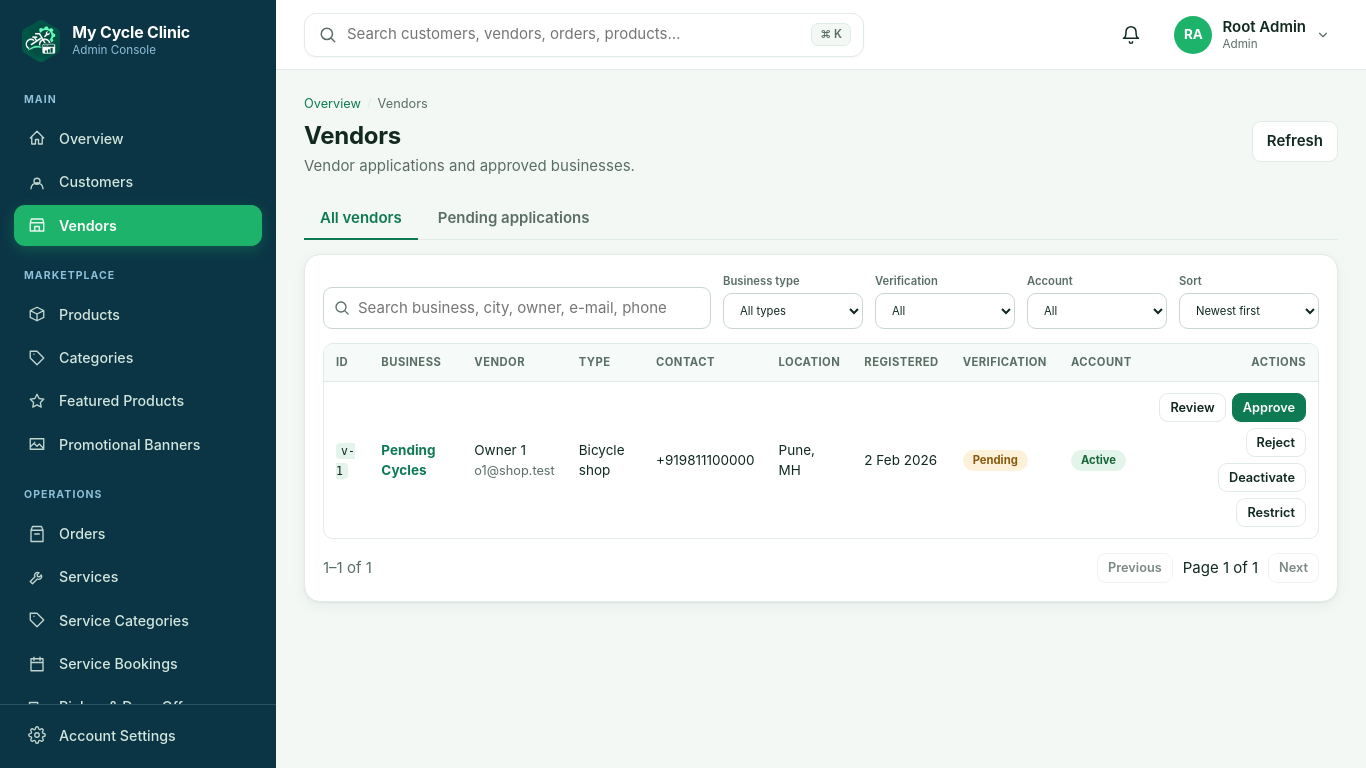
it: vendor decisions › a repeated approval (409 already_approved) is shown to the admin and the dialog stays open
Step 1. Click the button "Approve" → (1269, 407), box [1232, 393, 1306, 422]
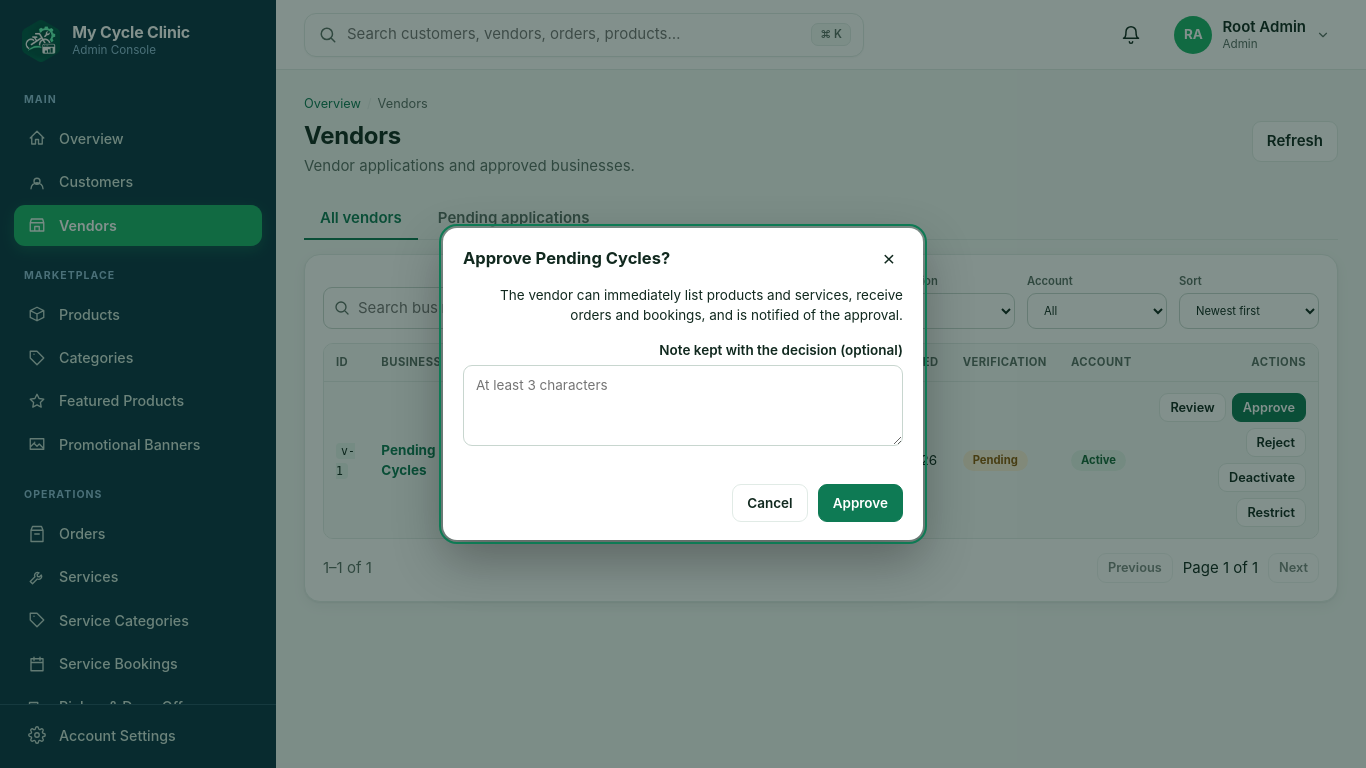
Step 2. Click the button "Approve" below "Note kept with the decision (optional)" → (860, 503), box [818, 484, 903, 522]
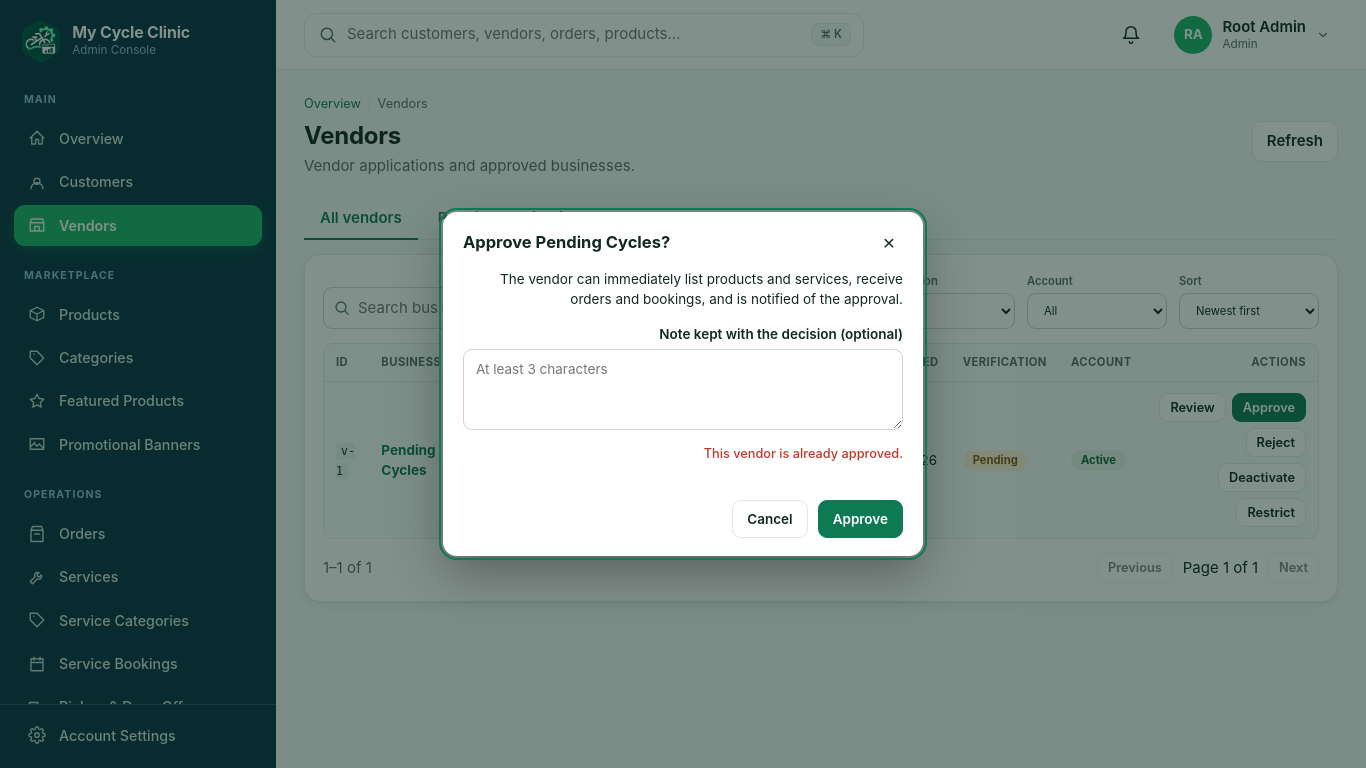
Expected: the text "This vendor is already approved." is shown, [704, 446, 903, 461]
